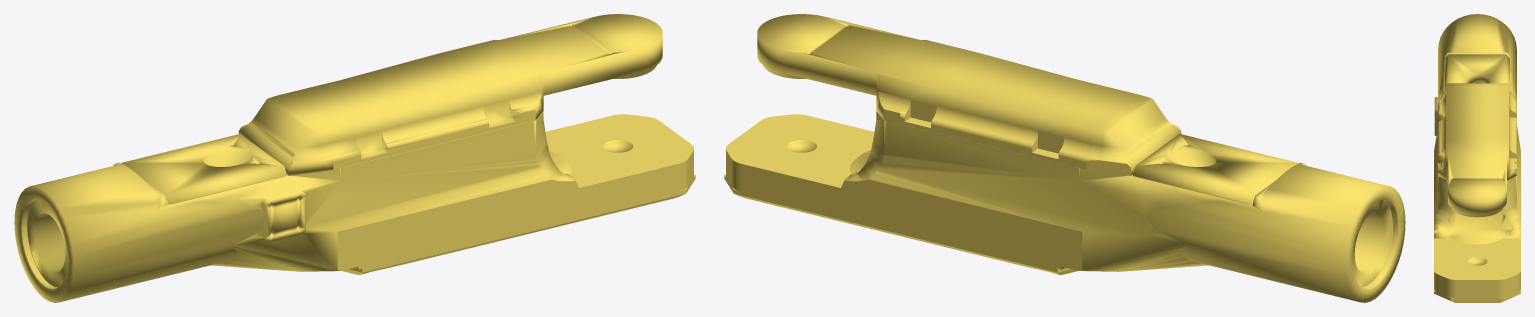
3 renders of one model, left to right at view 1: azimuth 30°, elevation 25°; view 2: azimuth 150°, elevation 25°; view 3: azimuth 270°, elevation 25°, orthographic. The views are drawn at different scales.
Parts seen in each view (by area): view 1: /Node_0x7fd4b7a99030_001/meshId1_name_004-mesh/0, /Node_0x7fd4b7a99030/meshId0_name_005-mesh/0; view 2: /Node_0x7fd4b7a99030_001/meshId1_name_004-mesh/0, /Node_0x7fd4b7a99030/meshId0_name_005-mesh/0; view 3: /Node_0x7fd4b7a99030_001/meshId1_name_004-mesh/0, /Node_0x7fd4b7a99030/meshId0_name_005-mesh/0.
Part boxes in pixels (bbox=[...]): /Node_0x7fd4b7a99030_001/meshId1_name_004-mesh/0: bbox=[14, 111, 695, 302]; /Node_0x7fd4b7a99030/meshId0_name_005-mesh/0: bbox=[238, 14, 662, 175]; /Node_0x7fd4b7a99030_001/meshId1_name_004-mesh/0: bbox=[724, 111, 1405, 302]; /Node_0x7fd4b7a99030/meshId0_name_005-mesh/0: bbox=[757, 14, 1181, 175]; /Node_0x7fd4b7a99030_001/meshId1_name_004-mesh/0: bbox=[1434, 14, 1520, 302]; /Node_0x7fd4b7a99030/meshId0_name_005-mesh/0: bbox=[1438, 83, 1516, 217].
Bounding box in the file's own units: 0.7174 × 0.1738 × 0.13.
